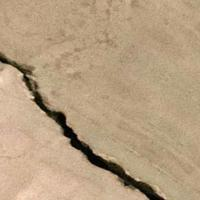crack: (0, 51, 170, 199)
